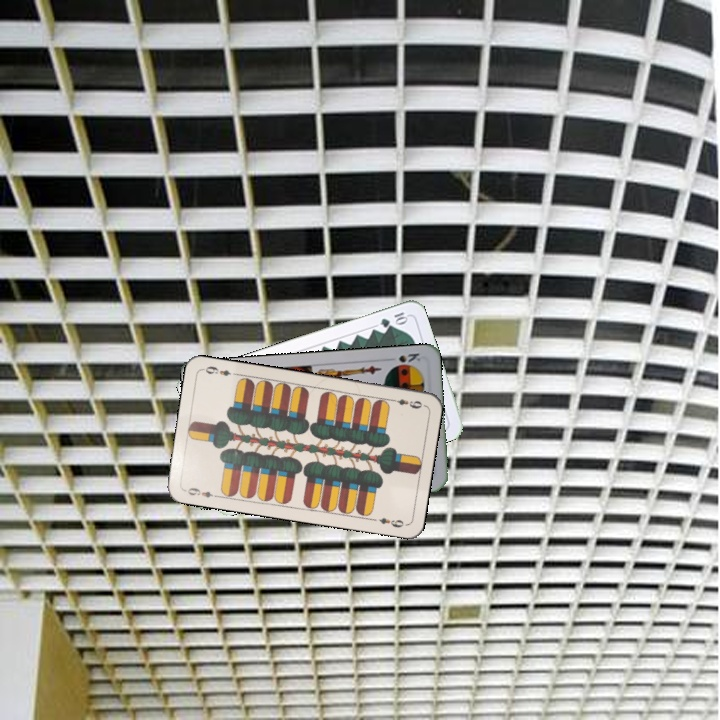E9: (181, 483, 221, 500), (386, 395, 426, 411)
G10: (376, 308, 411, 330)
SK: (394, 349, 424, 365)
